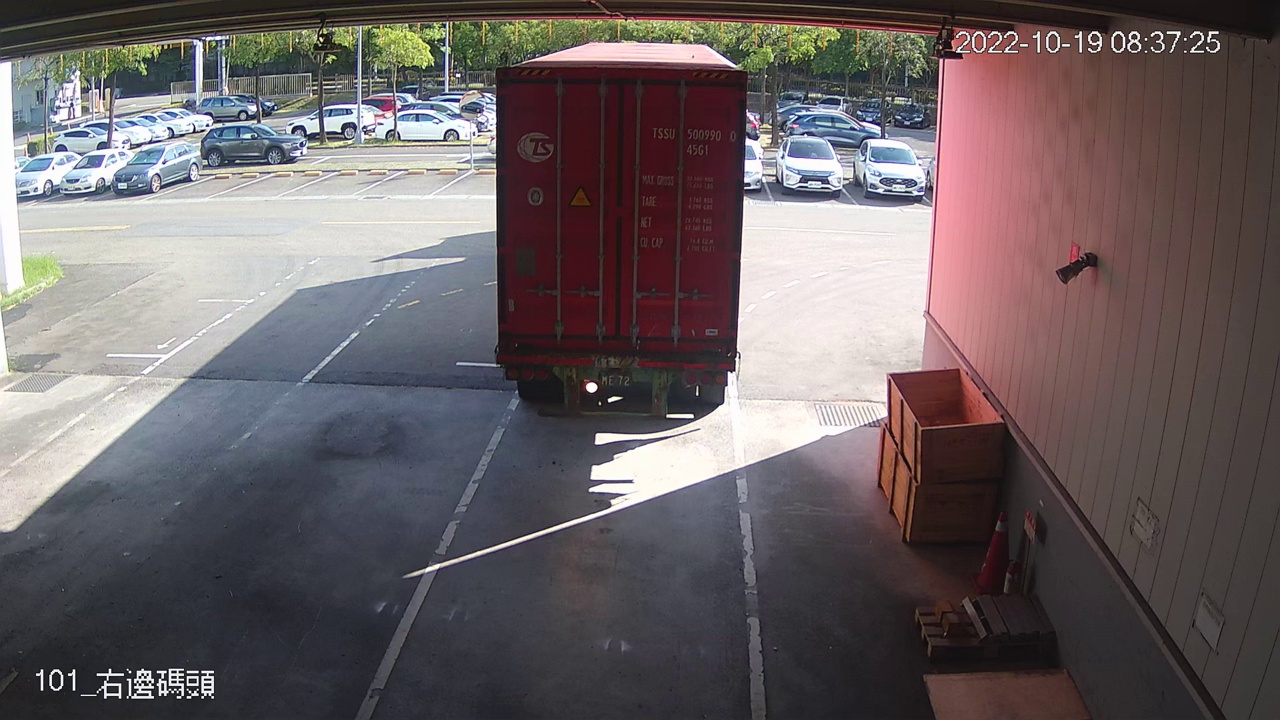container: (647, 122, 741, 162)
